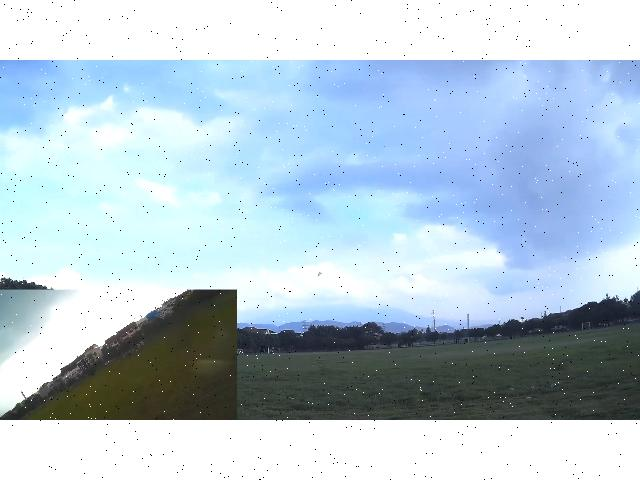Anti-Drone: (316, 269, 324, 280)
